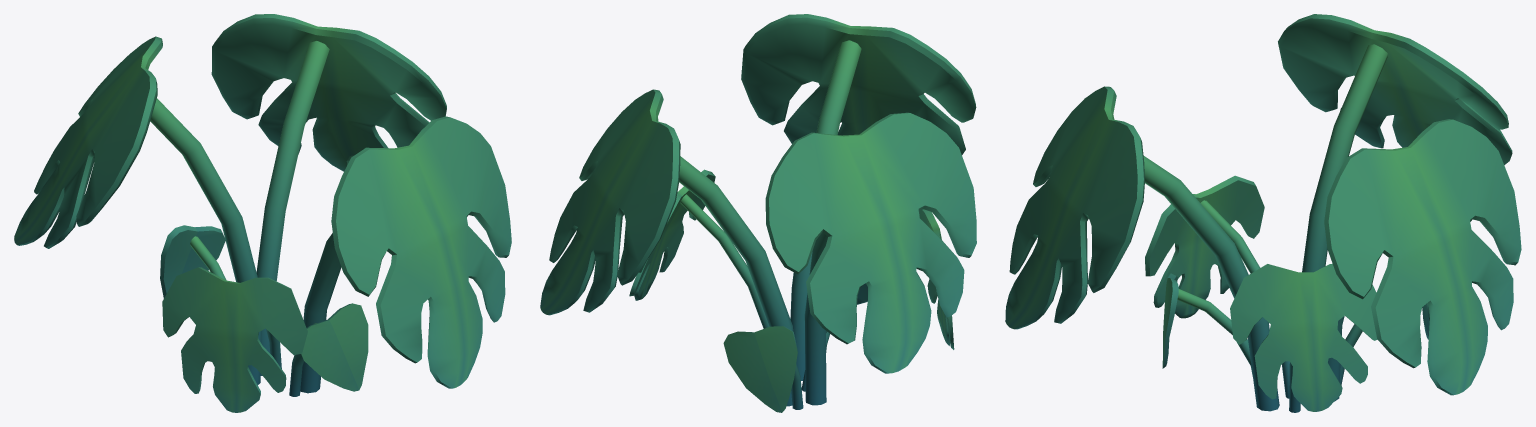
Rendered from Monstera Plant.glb.
3 views of the same model, side by side, from view 1: azimuth 30°, elevation 25°; view 2: azimuth 150°, elevation 25°; view 3: azimuth 270°, elevation 25° (orthographic). The views are drawn at different scales.
Parts seen in each view (by area): view 1: monstera_plant_medium; view 2: monstera_plant_medium; view 3: monstera_plant_medium.
Part boxes in pixels (x1,y1,x2,y2): monstera_plant_medium: (14, 14, 511, 412); monstera_plant_medium: (540, 14, 976, 412); monstera_plant_medium: (1005, 14, 1521, 412).
Size of the model in its own units: 2.02 by 1.56 by 2.22.
1 material, 1 textured.
